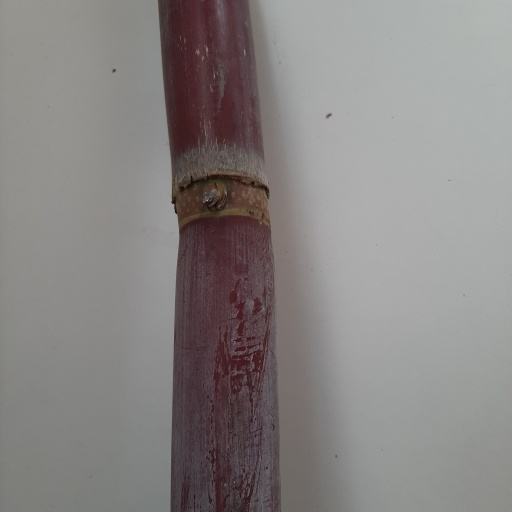Bud: (199, 180, 226, 212)
